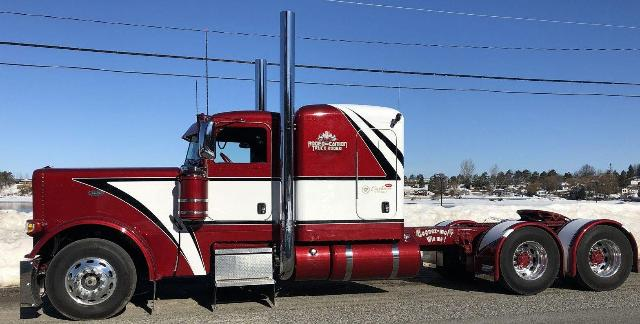truck: (0, 91, 640, 314)
